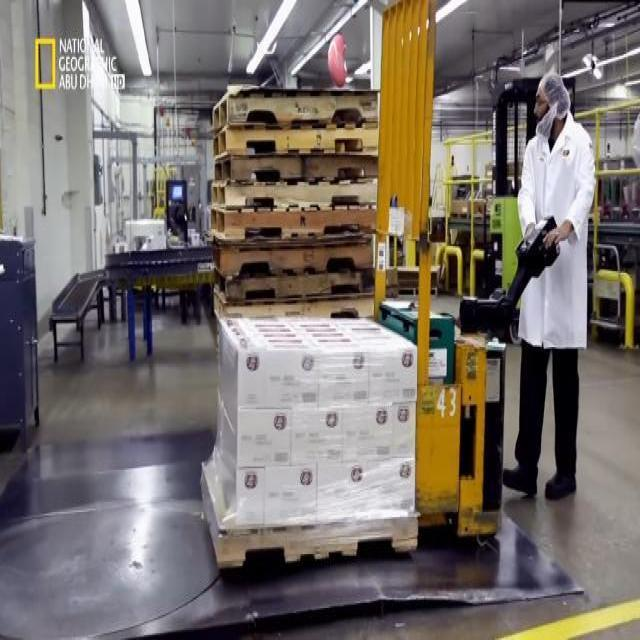bare_hand: (539, 209, 574, 258)
